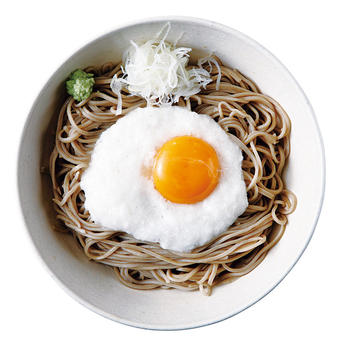Soba: (50, 62, 295, 296)
